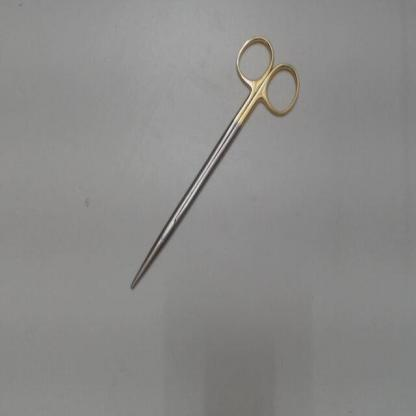7 Metzenbaum Scissors: (126, 30, 306, 296)
